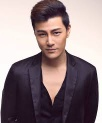male: (28, 1, 78, 66)
